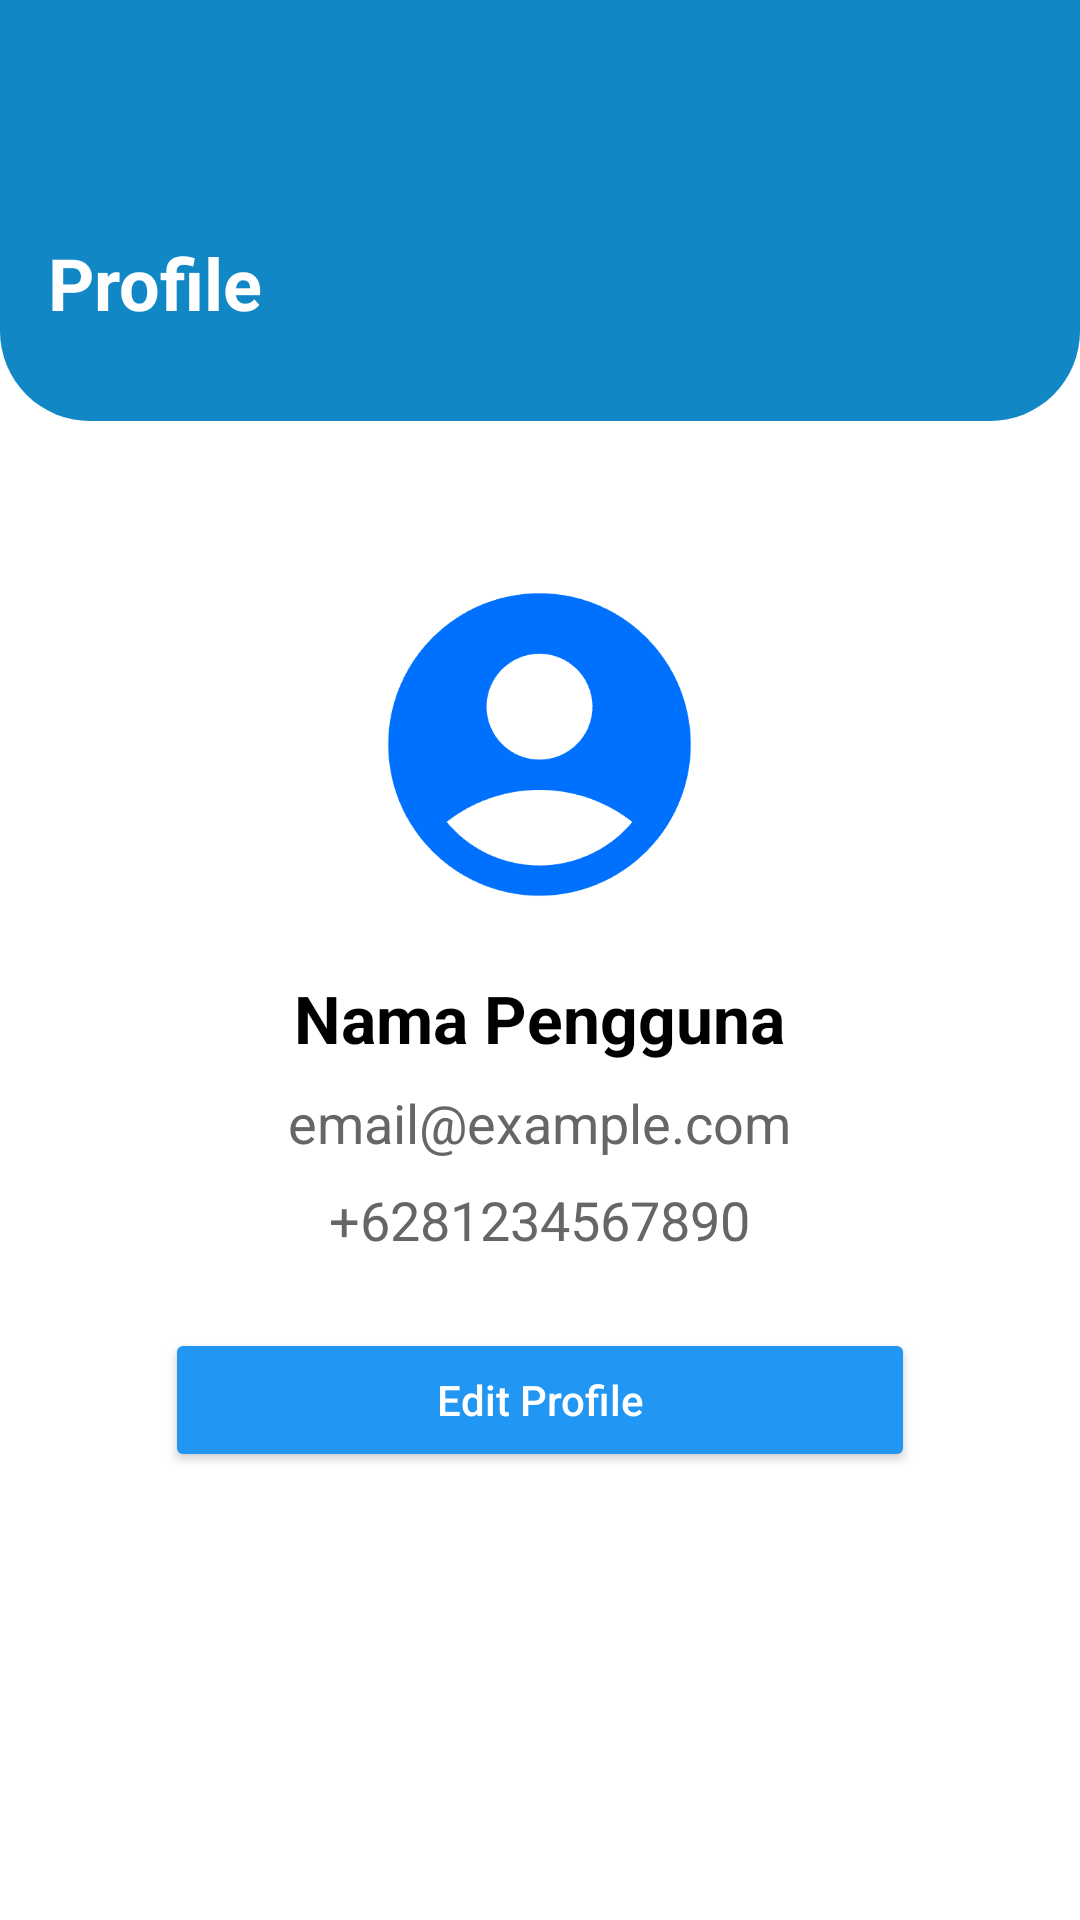

Screen size 1080x1920. Icon name, then its box in pixels as (x1,y1,x2,y2):
profile: (388,593,691,896)
